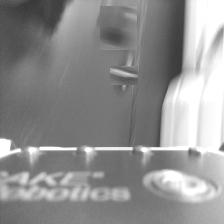Door Handle: (98, 8, 138, 48)
Lock: (112, 63, 136, 87)
